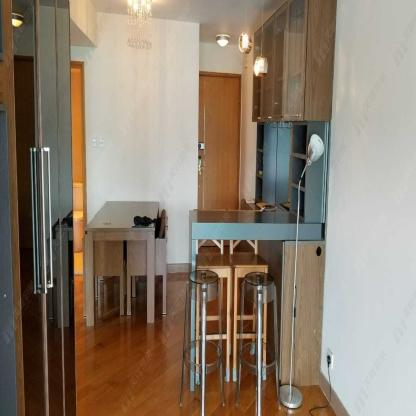Cupboard: (252, 0, 338, 123)
Dining Table: (188, 210, 308, 242), (84, 200, 160, 242)
